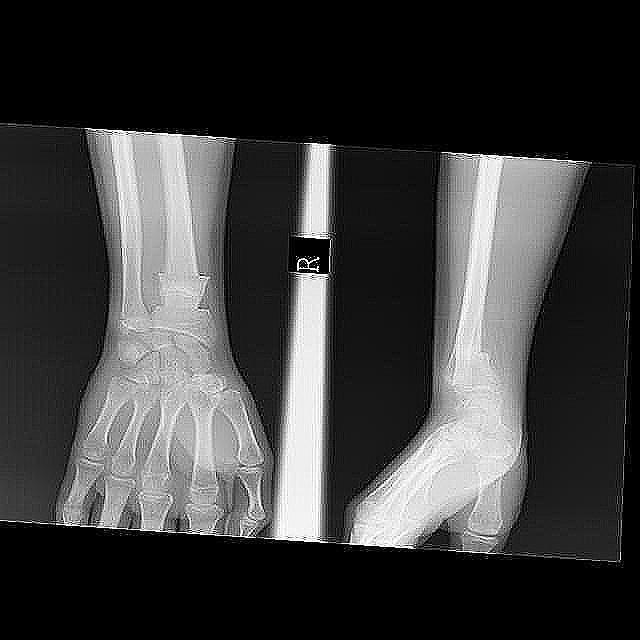bone: (154, 270, 212, 306), (450, 334, 501, 359)
